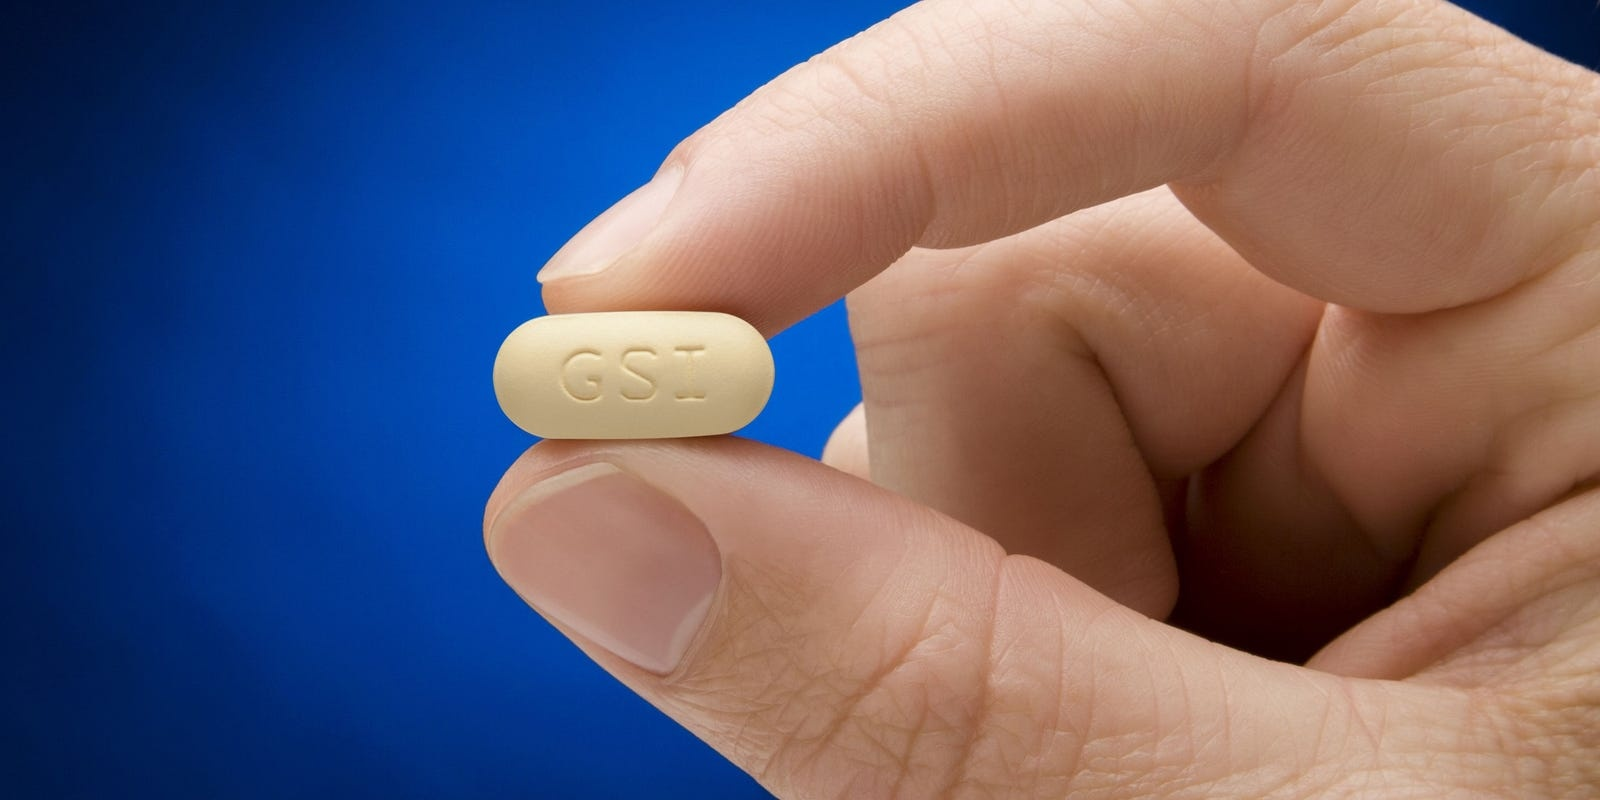pills: (490, 310, 781, 446)
